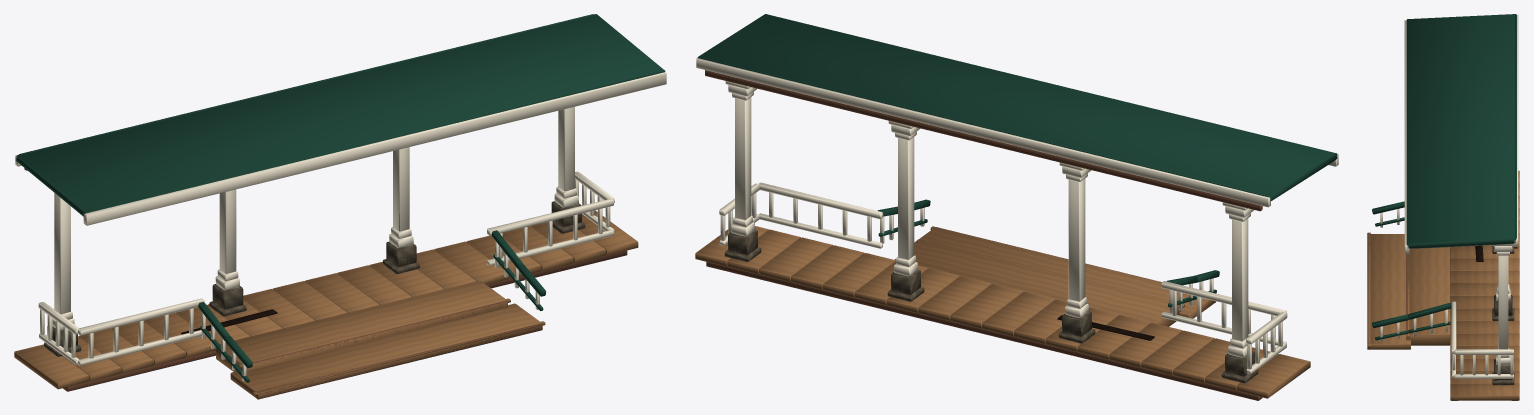
Rendered from asset_054_exterior_porch_and_steps.glb.
The picture shows the model from 3 angles, left to right: view 1: azimuth 30°, elevation 25°; view 2: azimuth 150°, elevation 25°; view 3: azimuth 270°, elevation 25°; orthographic projection. The views are drawn at different scales.
Visible parts, largest first — view 1: MESH_CanopyRoof, MESH_OakDeckBoards, MESH_OakStairTreadsAndNosings, MESH_CreamCanopyFasciaAndSoffit, MESH_ProfiledCreamColumns, MESH_AttachedCreamPorchRailings, MESH_DiagonalStairHandrails, MESH_FieldstoneColumnBases, MESH_WalnutStairRisers, MESH_PorchUndersideBeams; view 2: MESH_CanopyRoof, MESH_OakDeckBoards, MESH_ProfiledCreamColumns, MESH_CreamCanopyFasciaAndSoffit, MESH_OakStairTreadsAndNosings, MESH_AttachedCreamPorchRailings, MESH_FieldstoneColumnBases, MESH_PorchUndersideBeams, MESH_DiagonalStairHandrails; view 3: MESH_CanopyRoof, MESH_OakDeckBoards, MESH_OakStairTreadsAndNosings, MESH_CreamCanopyFasciaAndSoffit, MESH_DiagonalStairHandrails, MESH_AttachedCreamPorchRailings, MESH_ProfiledCreamColumns, MESH_FieldstoneColumnBases, MESH_WalnutStairRisers.
Boxes of the visible parts, x1,y1,x2,y2 form: MESH_CanopyRoof: [16, 14, 665, 216]; MESH_OakDeckBoards: [14, 210, 638, 389]; MESH_OakStairTreadsAndNosings: [216, 280, 545, 398]; MESH_CreamCanopyFasciaAndSoffit: [15, 14, 666, 225]; MESH_ProfiledCreamColumns: [52, 107, 578, 330]; MESH_AttachedCreamPorchRailings: [38, 171, 614, 365]; MESH_DiagonalStairHandrails: [198, 230, 545, 382]; MESH_FieldstoneColumnBases: [44, 201, 585, 356]; MESH_WalnutStairRisers: [252, 300, 542, 399]; MESH_PorchUndersideBeams: [63, 250, 627, 391]; MESH_CanopyRoof: [697, 14, 1337, 201]; MESH_OakDeckBoards: [695, 226, 1310, 398]; MESH_ProfiledCreamColumns: [725, 81, 1254, 357]; MESH_CreamCanopyFasciaAndSoffit: [696, 57, 1338, 211]; MESH_OakStairTreadsAndNosings: [894, 226, 1215, 326]; MESH_AttachedCreamPorchRailings: [719, 182, 1287, 373]; MESH_FieldstoneColumnBases: [724, 230, 1258, 383]; MESH_PorchUndersideBeams: [706, 262, 1262, 400]; MESH_DiagonalStairHandrails: [877, 199, 1219, 313]; MESH_CanopyRoof: [1406, 14, 1516, 248]; MESH_OakDeckBoards: [1450, 170, 1519, 400]; MESH_OakStairTreadsAndNosings: [1367, 232, 1450, 349]; MESH_CreamCanopyFasciaAndSoffit: [1404, 14, 1518, 253]; MESH_DiagonalStairHandrails: [1372, 201, 1451, 341]; MESH_AttachedCreamPorchRailings: [1451, 301, 1513, 378]; MESH_ProfiledCreamColumns: [1493, 244, 1513, 365]; MESH_FieldstoneColumnBases: [1492, 245, 1514, 385]; MESH_WalnutStairRisers: [1367, 234, 1407, 349].
Size of the model in its own units: 11.52 by 4.02 by 3.29.
Materials: 8 (3 with a texture image).
